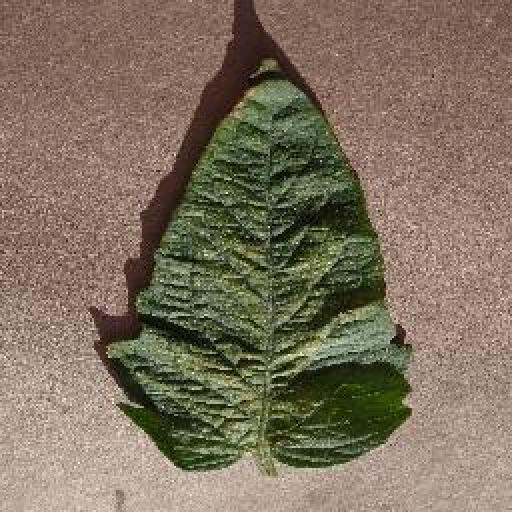disease_tomato: (103, 58, 411, 470)
